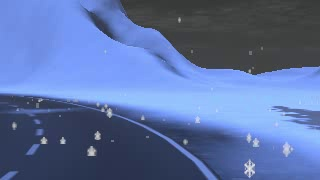Lane: (0, 93, 215, 179)
